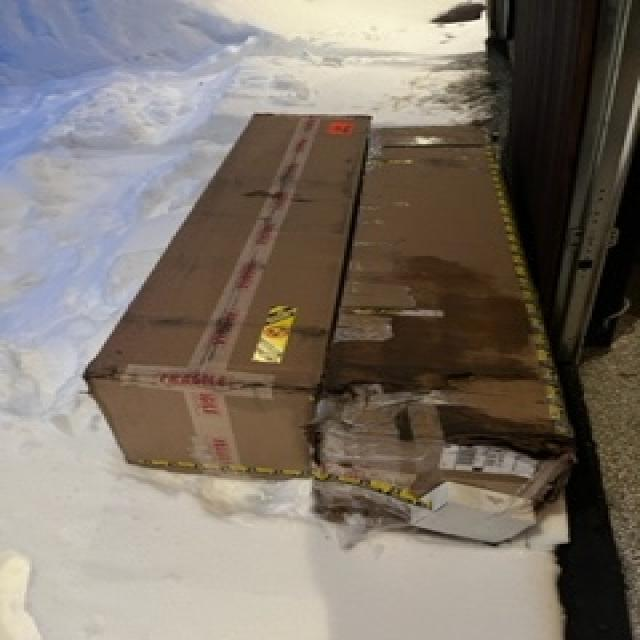Kardus kondisi rusak: (314, 127, 582, 556), (86, 115, 372, 484)
